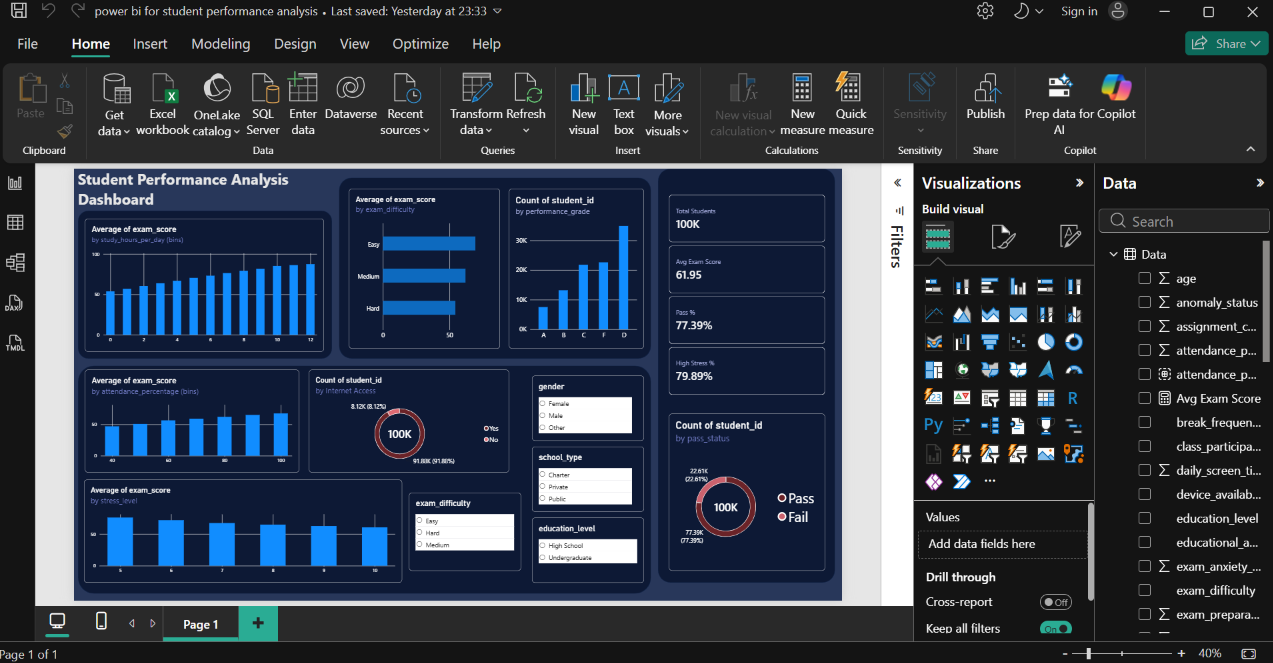

The page's visual inventory and layout, read from the dashboard file:
{"tool":"powerbi","page":{"name":"Page 1","canvas":[1920,1080],"ordinal":0},"visuals":[{"type":"textbox","box":[10,0,552.5,777.5],"z":0},{"type":"shape","box":[1460,0,442.5,1035],"z":1000},{"type":"cardVisual","fields":{"Data":["Data.Total Students","Data.Avg Exam Score","Data.Pass %","Data.High Stress %"]},"box":[1487.5,65,390,500],"z":2000},{"type":"donutChart","fields":{"Category":["Data.pass_status"],"Y":["CountNonNull(Data.student_id)"]},"box":[1487.5,612.5,390,392.5],"z":3000},{"type":"shape","box":[662.5,22.5,780,452.5],"z":4000},{"type":"clusteredColumnChart","fields":{"Category":["Data.performance_grade"],"Y":["CountNonNull(Data.student_id)"]},"box":[1087.5,50,337.5,400],"z":5000},{"type":"shape","box":[10,492.5,1432.5,570],"z":6000},{"type":"shape","box":[10,105,635,370],"z":7000},{"type":"clusteredBarChart","fields":{"Category":["Data.exam_difficulty"],"Y":["Avg(Data.exam_score)"]},"box":[687.5,50,377.5,400],"z":8000},{"type":"clusteredColumnChart","fields":{"Category":["Data.attendance_percentage (bins)"],"Y":["Avg(Data.exam_score)"]},"box":[27.5,502.5,535,257.5],"z":9000},{"type":"clusteredColumnChart","fields":{"Category":["Data.study_hours_per_day (bins)"],"Y":["Avg(Data.exam_score)"]},"box":[27.5,125,597.5,332.5],"z":10000},{"type":"clusteredColumnChart","fields":{"Category":["Data.stress_level"],"Y":["Avg(Data.exam_score)"]},"box":[25,777.5,795,257.5],"z":11000},{"type":"donutChart","fields":{"Category":["Data.Internet Access"],"Y":["CountNonNull(Data.student_id)"]},"box":[587.5,502.5,500,257.5],"z":12000},{"type":"listSlicer","fields":{"Values":["Data.school_type"]},"box":[1145,695,280,162.5],"z":13001},{"type":"listSlicer","fields":{"Values":["Data.exam_difficulty"]},"box":[837.5,810,280,195],"z":13003},{"type":"listSlicer","fields":{"Values":["Data.gender"]},"box":[1145,517.5,280,162.5],"z":13004},{"type":"listSlicer","fields":{"Values":["Data.education_level"]},"box":[1145,872.5,280,162.5],"z":13005}]}

Visuals, with their boxes on the page's 1920x1080 design canvas (x1, y1, x2, y2). These are canvas units, not pixel positions in the 1273x663 screenshot, which may show the page scaled, cropped or inside an application window:
textbox: left=10, top=0, right=562, bottom=778
shape: left=1460, top=0, right=1902, bottom=1035
cardVisual - Data.Total Students x Data.Avg Exam Score: left=1488, top=65, right=1878, bottom=565
donutChart - Data.pass_status x CountNonNull(Data.student_id): left=1488, top=612, right=1878, bottom=1005
shape: left=662, top=22, right=1442, bottom=475
clusteredColumnChart - Data.performance_grade x CountNonNull(Data.student_id): left=1088, top=50, right=1425, bottom=450
shape: left=10, top=492, right=1442, bottom=1062
shape: left=10, top=105, right=645, bottom=475
clusteredBarChart - Data.exam_difficulty x Avg(Data.exam_score): left=688, top=50, right=1065, bottom=450
clusteredColumnChart - Data.attendance_percentage (bins) x Avg(Data.exam_score): left=28, top=502, right=562, bottom=760
clusteredColumnChart - Data.study_hours_per_day (bins) x Avg(Data.exam_score): left=28, top=125, right=625, bottom=458
clusteredColumnChart - Data.stress_level x Avg(Data.exam_score): left=25, top=778, right=820, bottom=1035
donutChart - Data.Internet Access x CountNonNull(Data.student_id): left=588, top=502, right=1088, bottom=760
listSlicer - Data.school_type: left=1145, top=695, right=1425, bottom=858
listSlicer - Data.exam_difficulty: left=838, top=810, right=1118, bottom=1005
listSlicer - Data.gender: left=1145, top=518, right=1425, bottom=680
listSlicer - Data.education_level: left=1145, top=872, right=1425, bottom=1035
